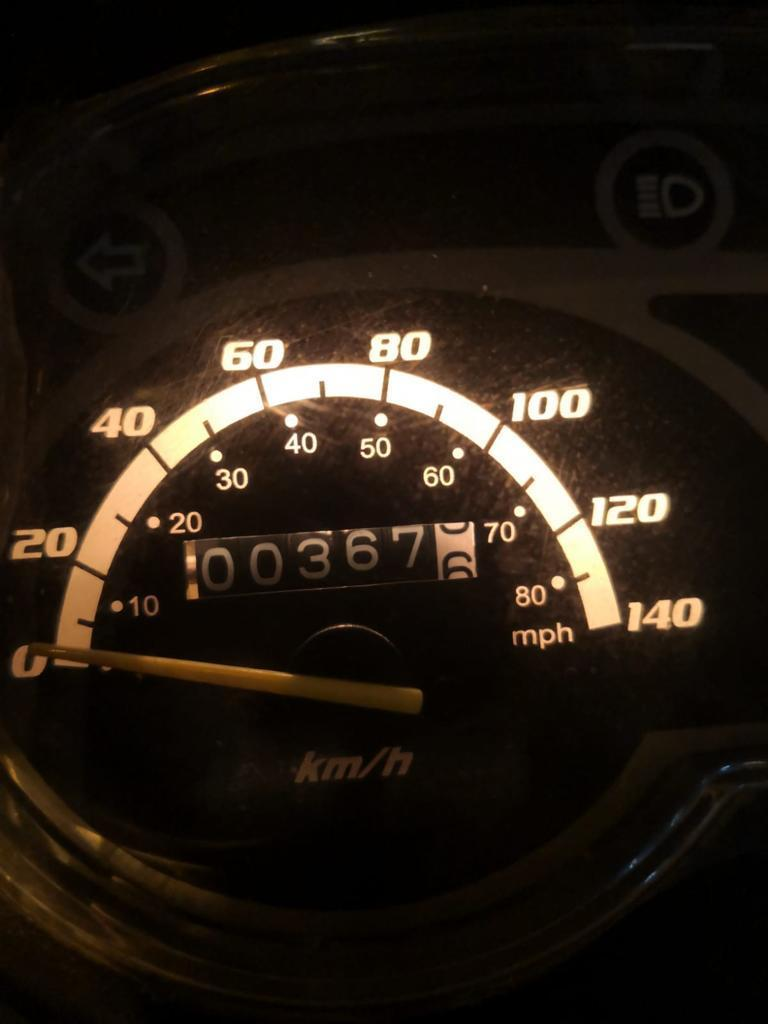0: (196, 544, 237, 593), (245, 539, 286, 587), (184, 519, 202, 533)
3: (292, 534, 333, 581)
6: (342, 526, 382, 571), (439, 547, 475, 582)
7: (388, 521, 426, 570)
odometer: (178, 519, 477, 604)
